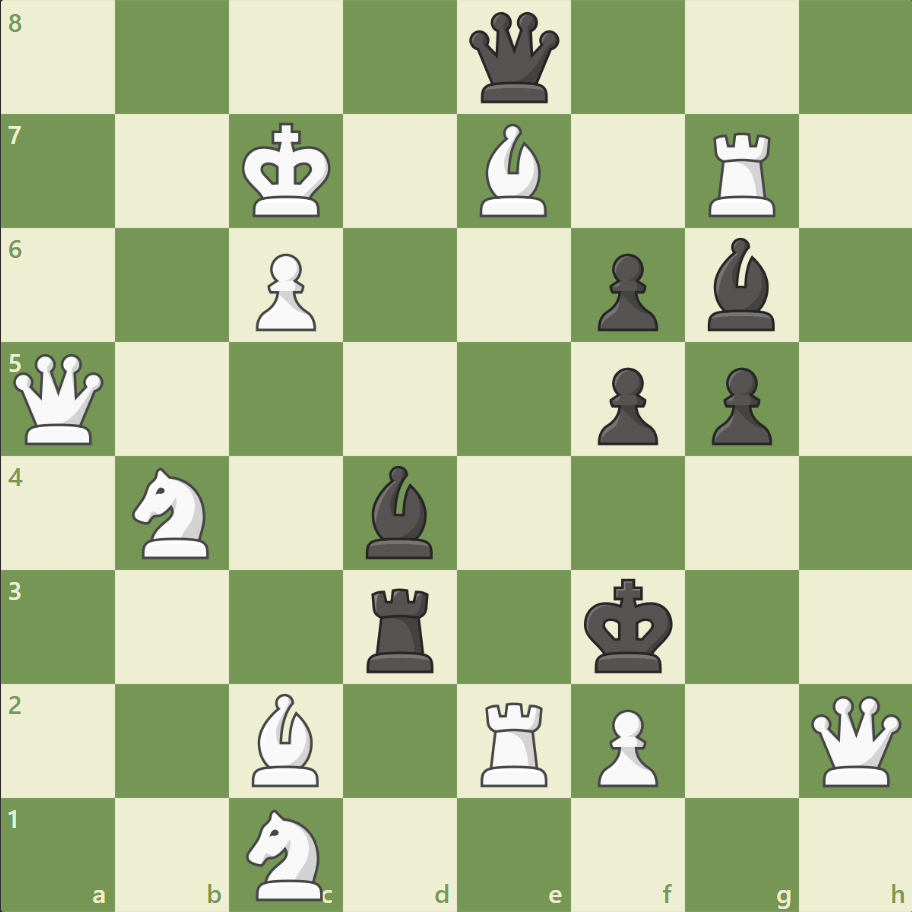B: (244, 687, 328, 790), (471, 120, 555, 222)
K: (238, 117, 338, 225)
N: (124, 461, 222, 564), (238, 802, 335, 904)
P: (247, 246, 322, 337), (588, 700, 662, 791)
Q: (10, 349, 109, 449), (805, 690, 904, 789)
R: (700, 125, 783, 222), (473, 693, 556, 790)
b: (698, 233, 782, 336), (358, 460, 442, 563)
k: (579, 571, 679, 679)
p: (701, 359, 776, 450), (588, 246, 662, 337), (588, 359, 662, 450)
q: (464, 9, 563, 108)
r: (360, 579, 442, 676)
